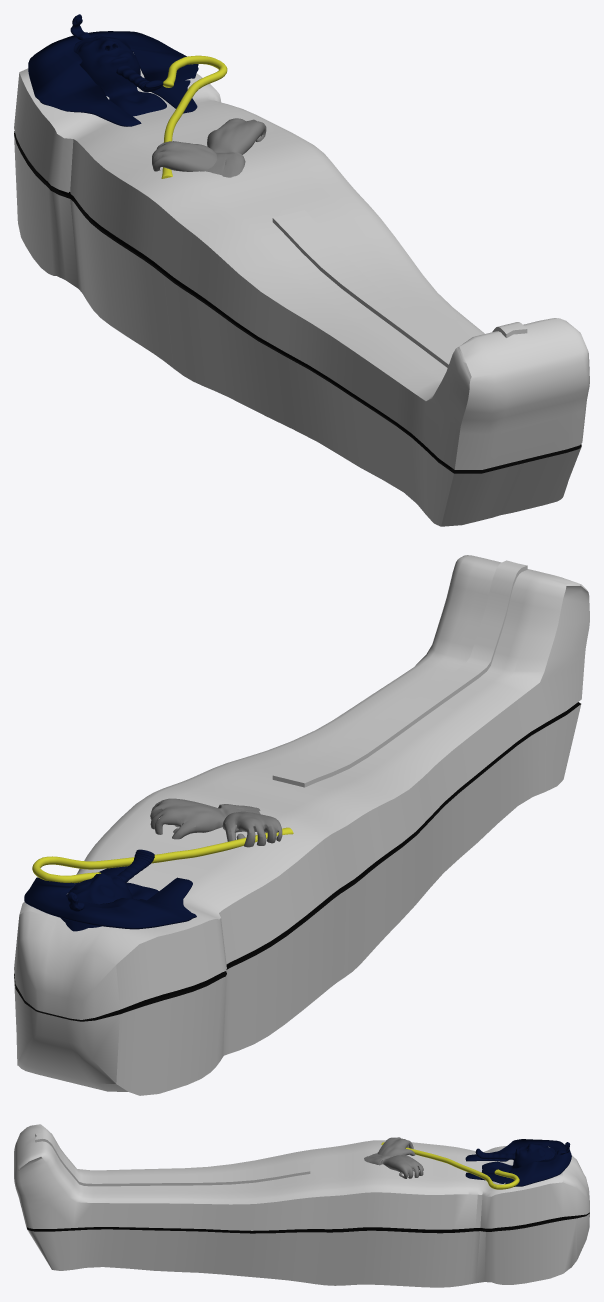
File: Coffin_v2_low.fbx
3 renders of one model, top to bottom at view 1: azimuth 30°, elevation 25°; view 2: azimuth 150°, elevation 25°; view 3: azimuth 270°, elevation 25°, orthographic. The views are drawn at different scales.
Visible parts, largest first — view 1: Coffin_low, Crown_low, Head_low, HandL_low, HandR_low, Staff_low; view 2: Coffin_low, Crown_low, HandL_low, Staff_low, Head_low, HandR_low; view 3: Coffin_low, Crown_low, Head_low, HandL_low, Staff_low, HandR_low, Chin_low.
Boxes of the visible parts, <box> form: Coffin_low: <box>14,52,589,526</box>; Crown_low: <box>28,31,198,126</box>; Head_low: <box>74,35,166,116</box>; HandL_low: <box>200,118,266,177</box>; HandR_low: <box>152,141,216,171</box>; Staff_low: <box>161,55,227,178</box>; Coffin_low: <box>14,555,589,1095</box>; Crown_low: <box>24,866,196,929</box>; HandL_low: <box>150,798,260,839</box>; Staff_low: <box>32,827,293,883</box>; Head_low: <box>61,873,158,931</box>; HandR_low: <box>222,811,282,847</box>; Coffin_low: <box>14,1124,589,1287</box>; Crown_low: <box>465,1139,571,1186</box>; Head_low: <box>481,1143,555,1172</box>; HandL_low: <box>364,1152,423,1178</box>; Staff_low: <box>381,1142,519,1189</box>; HandR_low: <box>378,1137,415,1156</box>; Chin_low: <box>475,1148,515,1159</box>.
Size of the model in its own units: 330 by 351 by 1432.
